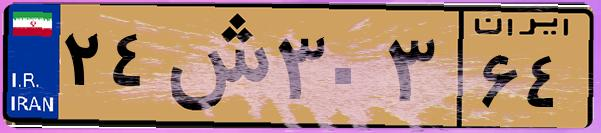0: (330, 28, 385, 110)
2: (57, 26, 110, 100)
3: (270, 28, 330, 110), (385, 28, 445, 110)
4: (525, 38, 570, 115), (110, 28, 158, 98)
6: (475, 38, 525, 113)
ش: (158, 12, 270, 120)
